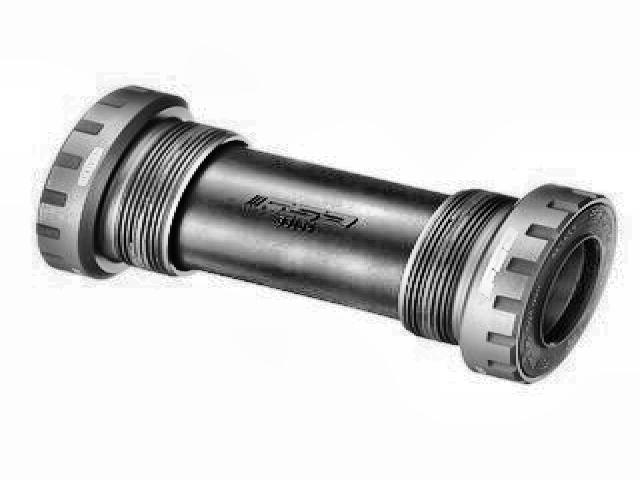bottom_bracket: (31, 81, 621, 390)
